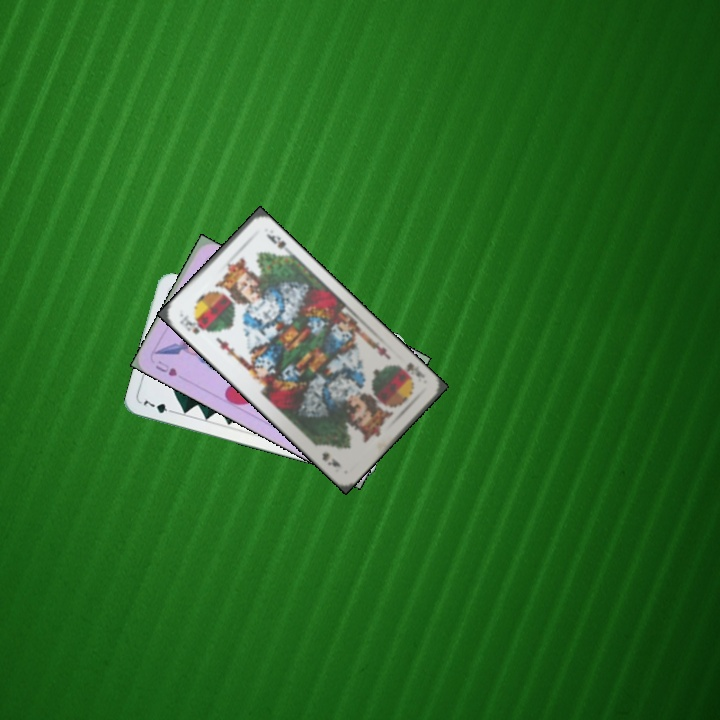G7: (139, 396, 178, 416)
HU: (151, 357, 180, 379)
SK: (392, 358, 427, 383), (176, 310, 206, 337)
